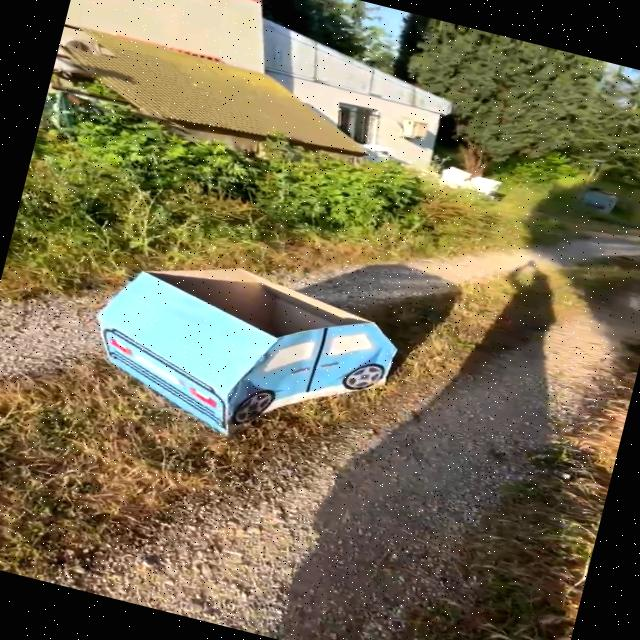blue_car: (33, 216, 462, 499)
